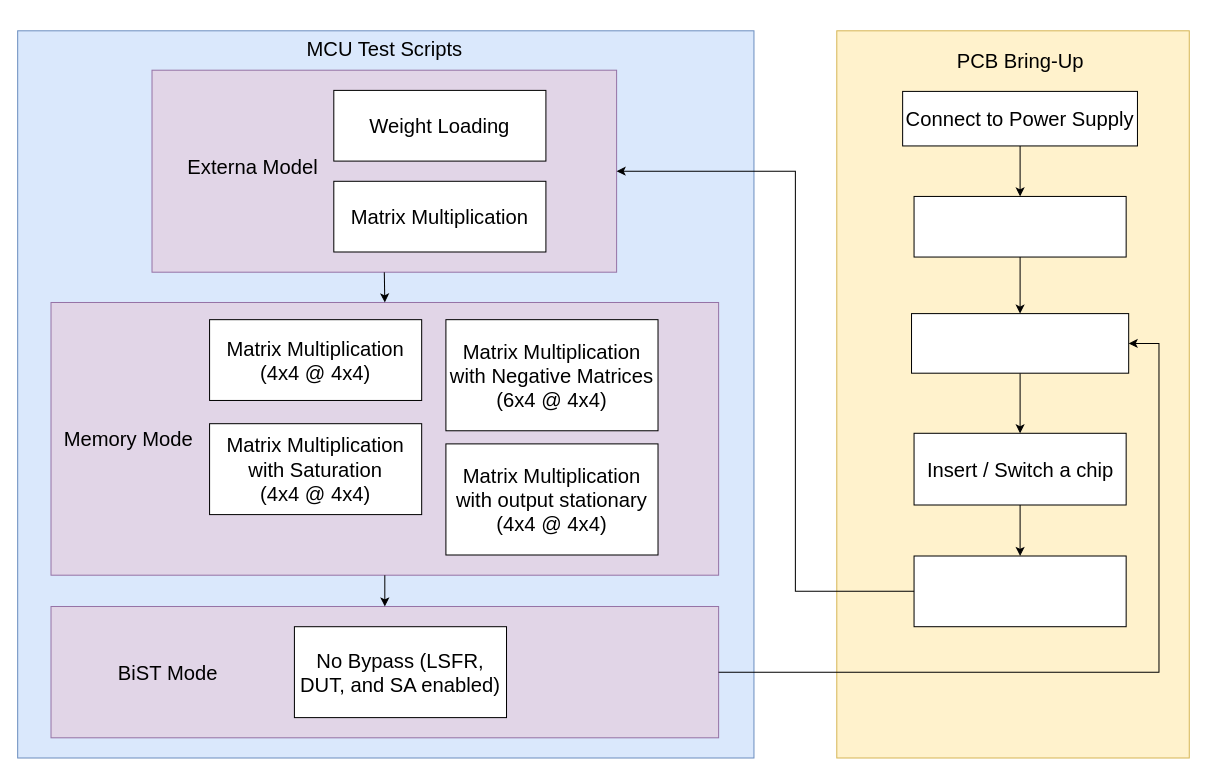
The diagram is 1207 pixels wide and 776 high, and some of its shapes have lost their labels. Here are the shapes that lost their labels. From the top down, the centre of each, then its label:
point (1019, 226): Setup Power Supply
point (1020, 343): Power off power supply
point (1019, 591): Power on power supply
